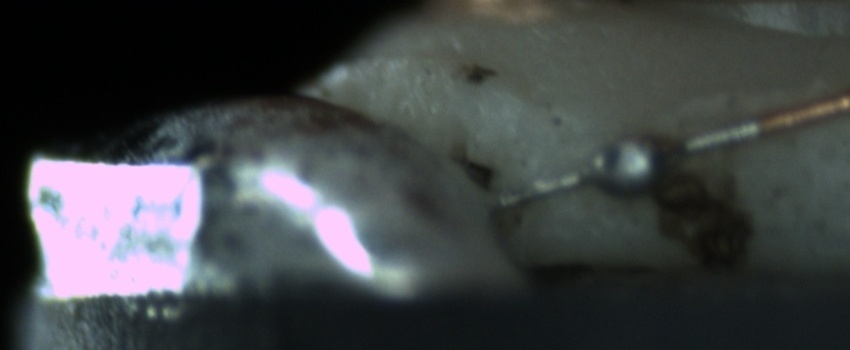TB: (577, 130, 678, 200)
TS: (495, 119, 761, 210)
TTCW: (484, 87, 830, 213)
